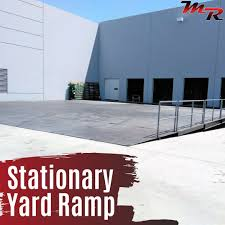Yard Ramp: (1, 98, 225, 147)
